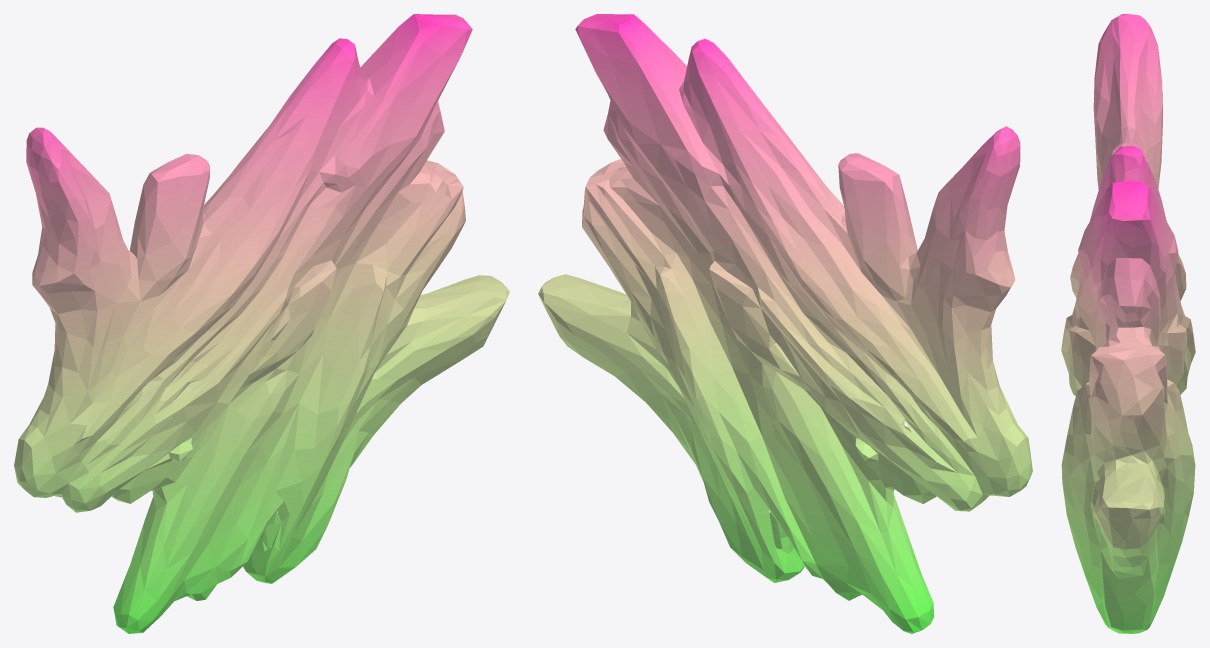
Rendered from 127_cyb_laser_gradient_fish_scales_2812_2026_10_03_043629.glb.
3 views of the same model, side by side, from view 1: azimuth 30°, elevation 25°; view 2: azimuth 150°, elevation 25°; view 3: azimuth 270°, elevation 25° (orthographic).
Visible parts, largest first — view 1: geometry_0; view 2: geometry_0; view 3: geometry_0.
Boxes of the visible parts, x1=… form: geometry_0: x1=14, y1=14, x2=509, y2=633; geometry_0: x1=538, y1=14, x2=1032, y2=633; geometry_0: x1=1061, y1=14, x2=1195, y2=633.
Bounding box in the file's own units: 0.9326 × 1 × 0.2225.
